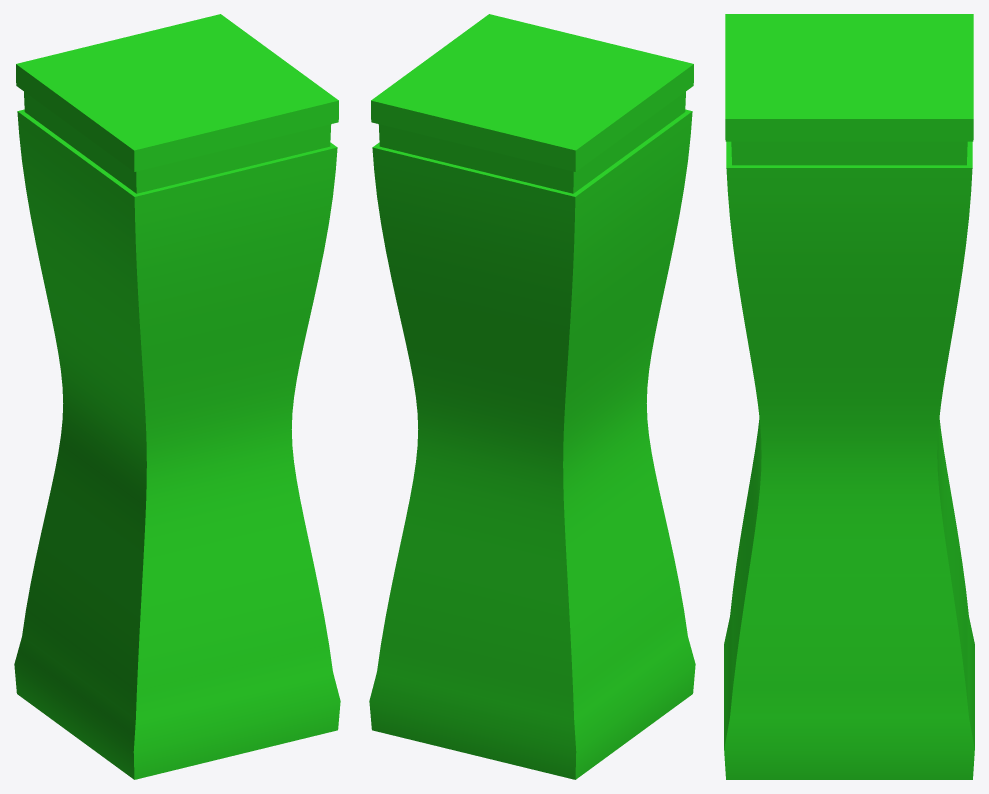
The model's file is Posador_mat.fbx.
3 renders of one model, left to right at view 1: azimuth 30°, elevation 25°; view 2: azimuth 150°, elevation 25°; view 3: azimuth 270°, elevation 25°, orthographic. The views are drawn at different scales.
Parts seen in each view (by area): view 1: Plane; view 2: Plane; view 3: Plane.
Part boxes in pixels (box(x1,y1,x2,y2)): Plane: box(14, 14, 340, 779); Plane: box(369, 14, 695, 779); Plane: box(724, 14, 974, 779).
Bounding box in the file's own units: 62.14 × 181 × 62.14.
